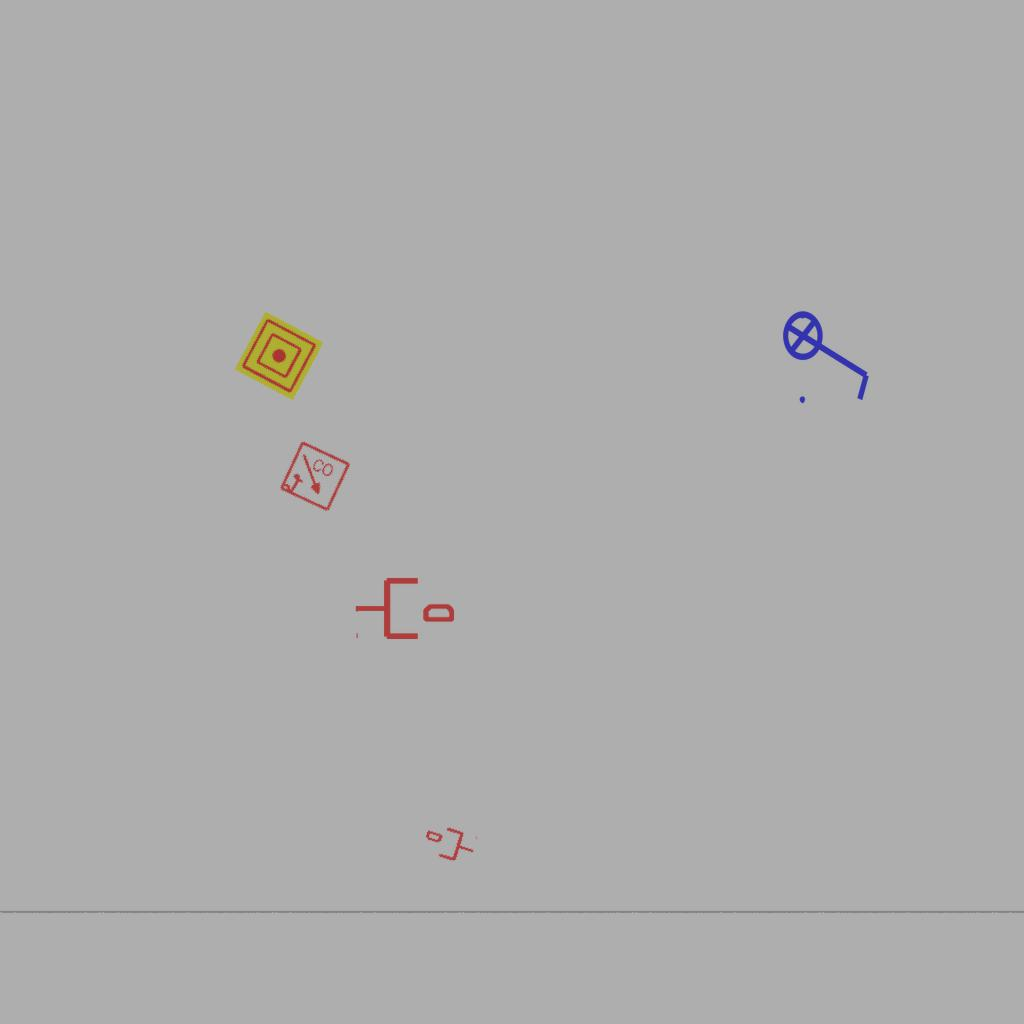Ausschalter_beleuchtet: (781, 297, 877, 409)
Datenanschluss_einfach: (354, 574, 454, 643), (421, 820, 479, 868)
NAM-Nichtautomatischer_Melder: (234, 311, 324, 401)
ROA_Rauchmelder_optisch_mit_Signalgeber_(Sockelsirene): (277, 439, 353, 515)
